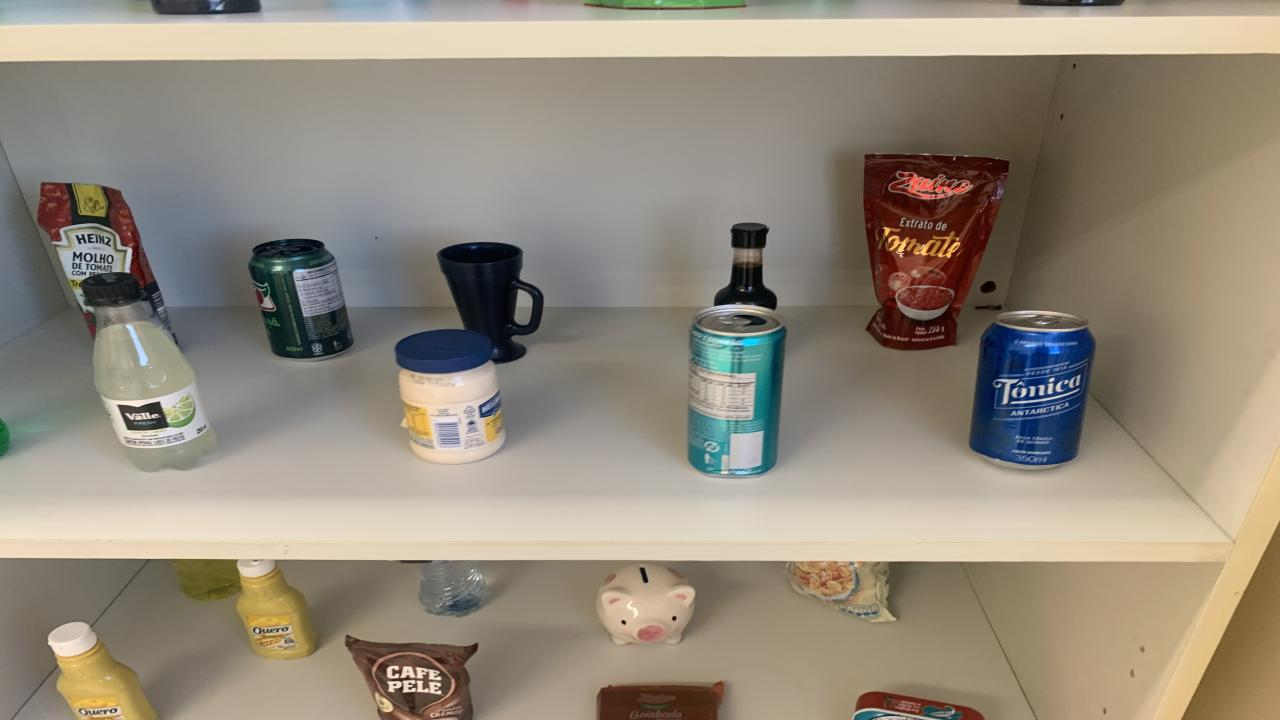Coffee-Pantry_Items: (345, 636, 478, 720)
Detergent-Cleanup_Items: (172, 559, 240, 600)
English_Sauce-Pantry_Items: (715, 223, 778, 309)
Flakes-Snacks: (788, 561, 895, 622)
Guarana_Can-Drinks: (248, 238, 352, 360)
Guava-Snacks: (598, 681, 725, 720)
Mayonnaise-Pantry_Items: (395, 330, 505, 463)
Mustard-Pantry_Items: (48, 622, 158, 720), (238, 559, 318, 658)
Pig_Safe-Miscellaneous: (598, 562, 695, 645)
Soda-Drinks: (82, 272, 215, 471)
Tea-Drinks: (688, 304, 785, 476)
Tomato_Sauce-Pantry_Items: (865, 154, 1010, 351), (38, 184, 175, 339), (582, 0, 745, 9)
Tonic-Drinks: (970, 311, 1095, 469)
Tuna_Can-Pantry_Items: (852, 692, 982, 720)
Water_Bottle-Drinks: (418, 561, 488, 617)
